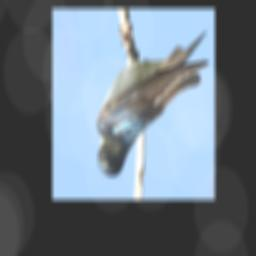Swallow: (96, 21, 210, 176)
